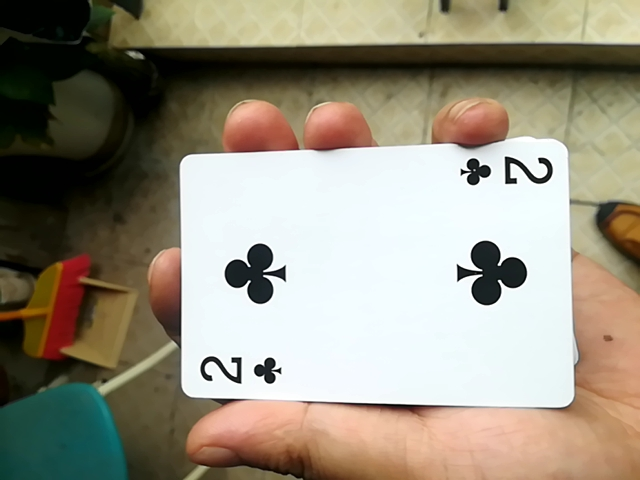mh 2: (168, 138, 572, 415)
